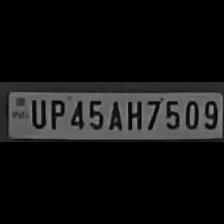0: (181, 97, 199, 130)
4: (66, 96, 84, 130)
5: (84, 96, 104, 132), (160, 98, 180, 132)
7: (143, 98, 161, 132)
9: (200, 97, 220, 130)
A: (106, 98, 122, 132)
H: (124, 98, 142, 132)
P: (46, 96, 66, 130)
U: (28, 96, 46, 130)
